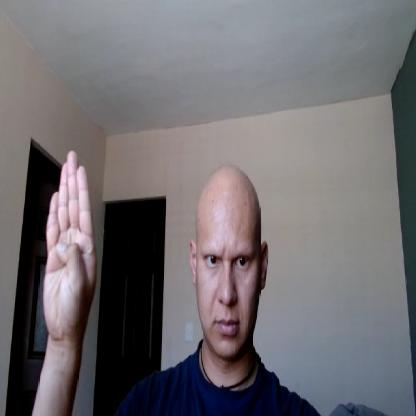B: (44, 149, 98, 334)
